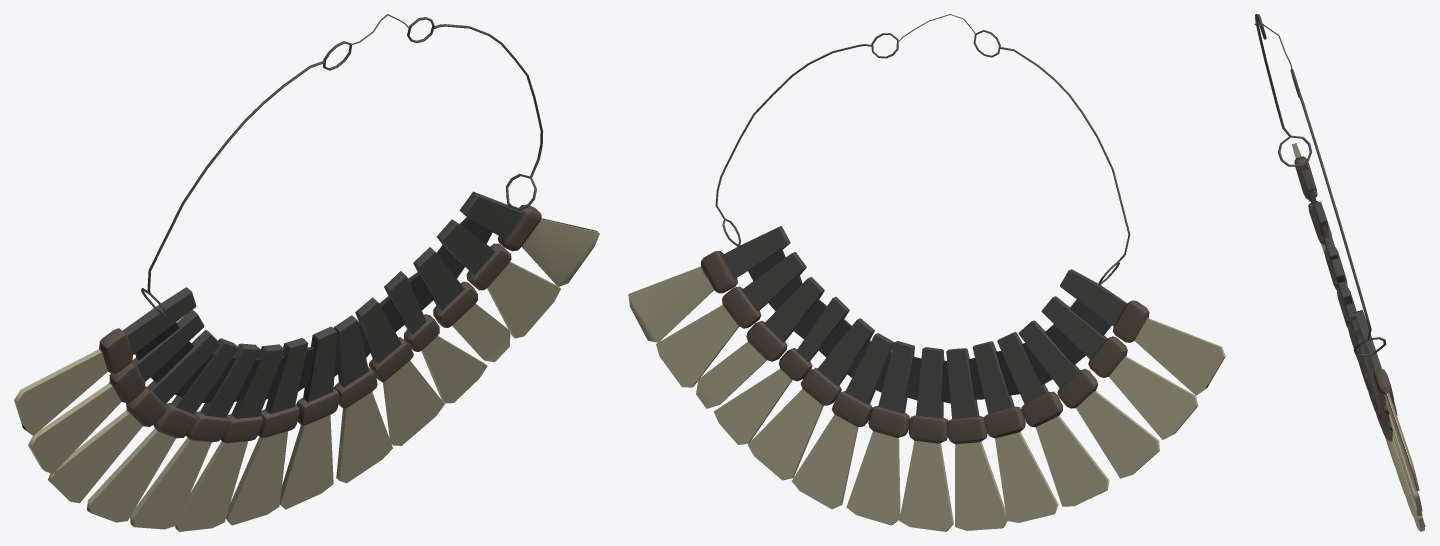
The model's file is Foaya.glb.
3 renders of one model, left to right at view 1: azimuth 30°, elevation 25°; view 2: azimuth 150°, elevation 25°; view 3: azimuth 270°, elevation 25°, orthographic. The views are drawn at different scales.
Visible parts, largest first — view 1: Foaya; view 2: Foaya; view 3: Foaya.
Part boxes in pixels (box(x1,y1,x2,y2)): Foaya: box(14, 14, 599, 531); Foaya: box(628, 14, 1225, 531); Foaya: box(1254, 14, 1425, 531).
Size of the model in its own units: 5.56 by 4.48 by 1.43.
Materials: 1 (1 with a texture image).
